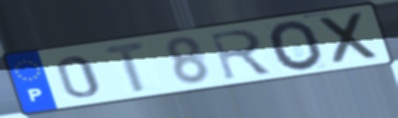0: (54, 54, 104, 100)
8: (163, 35, 212, 88)
O: (266, 19, 327, 74)
R: (207, 27, 275, 83)
T: (101, 39, 152, 96)
X: (315, 9, 383, 67)
